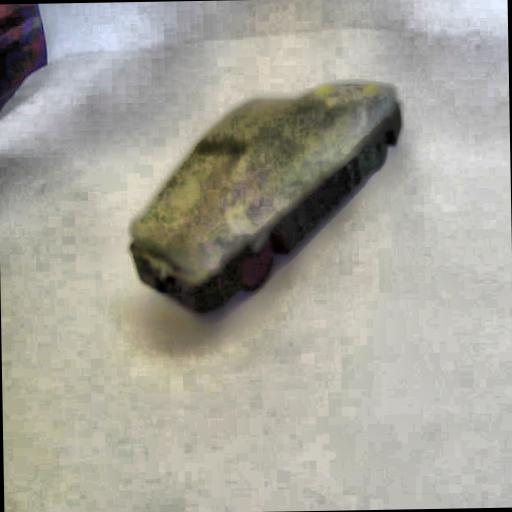normal_car: (120, 81, 404, 320)
